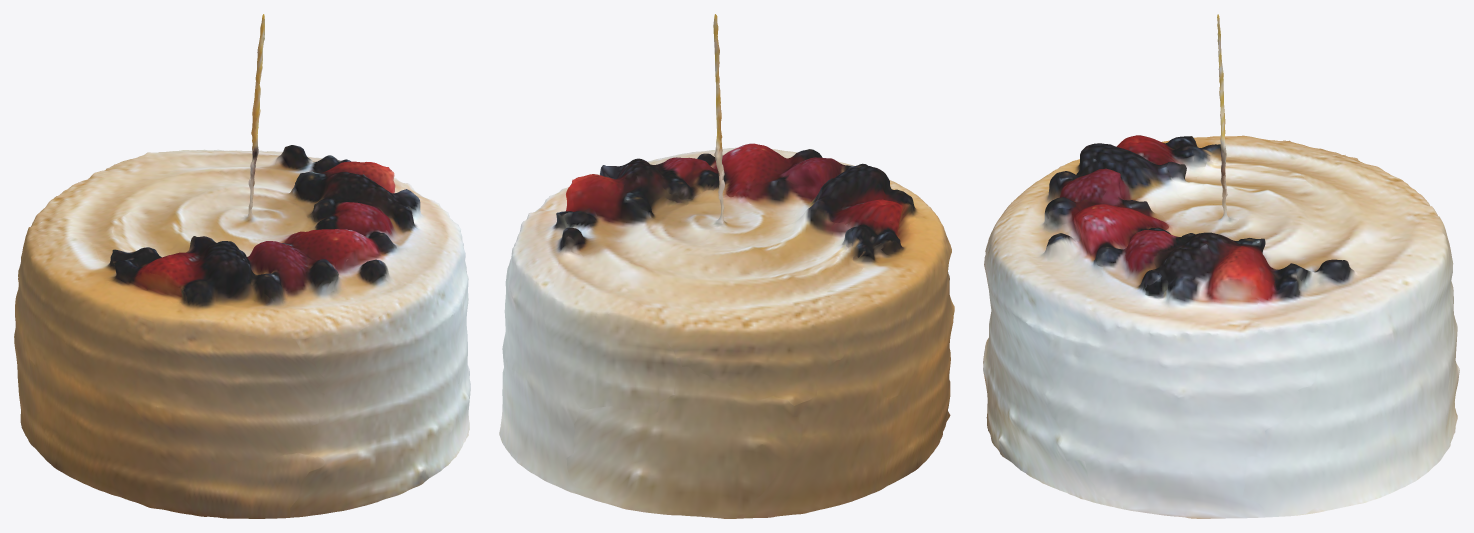
Rendered from cake.glb.
3 views of the same model, side by side, from view 1: azimuth 30°, elevation 25°; view 2: azimuth 150°, elevation 25°; view 3: azimuth 270°, elevation 25° (orthographic). The views are drawn at different scales.
Parts seen in each view (by area): view 1: Object_2; view 2: Object_2; view 3: Object_2.
Boxes of the visible parts, x1,y1,x2,y2 form: Object_2: (14,14,470,518); Object_2: (499,14,954,518); Object_2: (983,14,1459,518).
Bounding box in the file's own units: 0.2053 × 0.2045 × 0.2125.
Materials: 1 (1 with a texture image).
